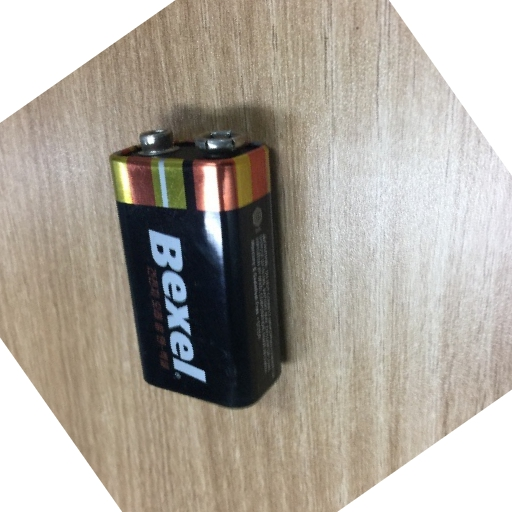Battery_3: (98, 113, 310, 423)
